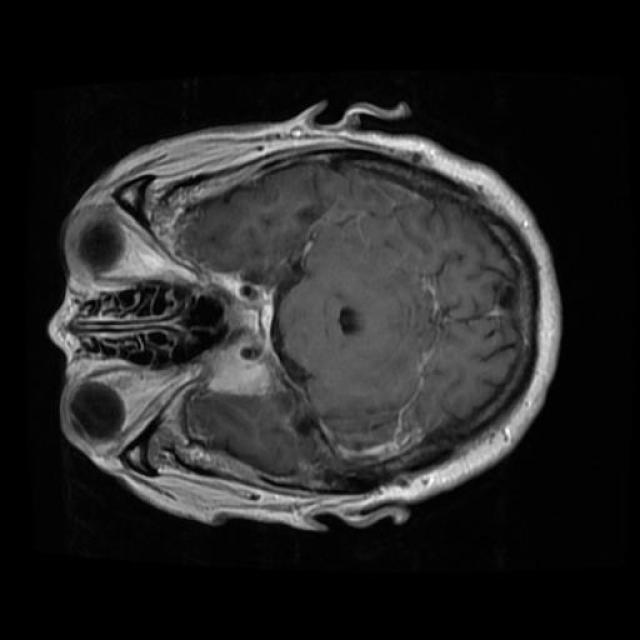Meningioma: (203, 341, 271, 395)
